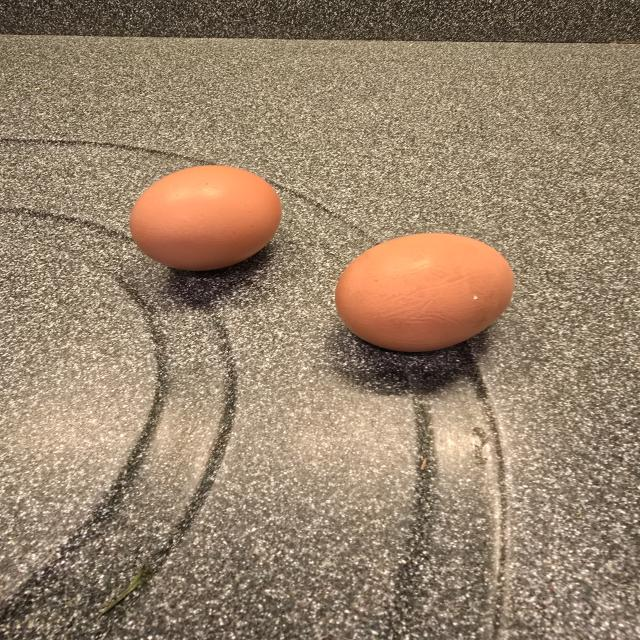Egg: (335, 233, 514, 352), (130, 166, 281, 270)
